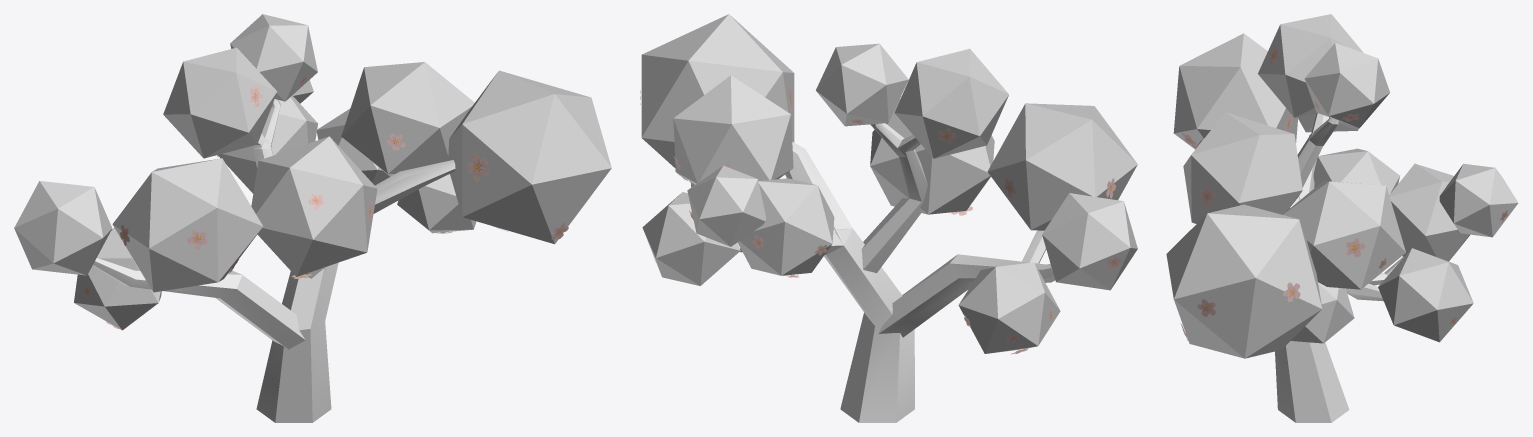
The model's file is blossom_tree_02.fbx.
3 renders of one model, left to right at view 1: azimuth 30°, elevation 25°; view 2: azimuth 150°, elevation 25°; view 3: azimuth 270°, elevation 25°, orthographic. The views are drawn at different scales.
Visible parts, largest first — view 1: crown, trunk, flower; view 2: crown, trunk, flower; view 3: crown, trunk, flower.
Boxes of the visible parts, x1=… form: crown: x1=14, y1=14, x2=611, y2=330; trunk: x1=92, y1=99, x2=455, y2=422; flower: x1=82, y1=75, x2=568, y2=328; crown: x1=641, y1=14, x2=1137, y2=353; trunk: x1=737, y1=123, x2=1055, y2=422; flower: x1=640, y1=84, x2=1122, y2=354; crown: x1=1166, y1=14, x2=1518, y2=358; trunk: x1=1275, y1=113, x2=1403, y2=422; flower: x1=1180, y1=45, x2=1507, y2=344.
Size of the model in its own units: 29.23 by 19.8 by 17.5.
